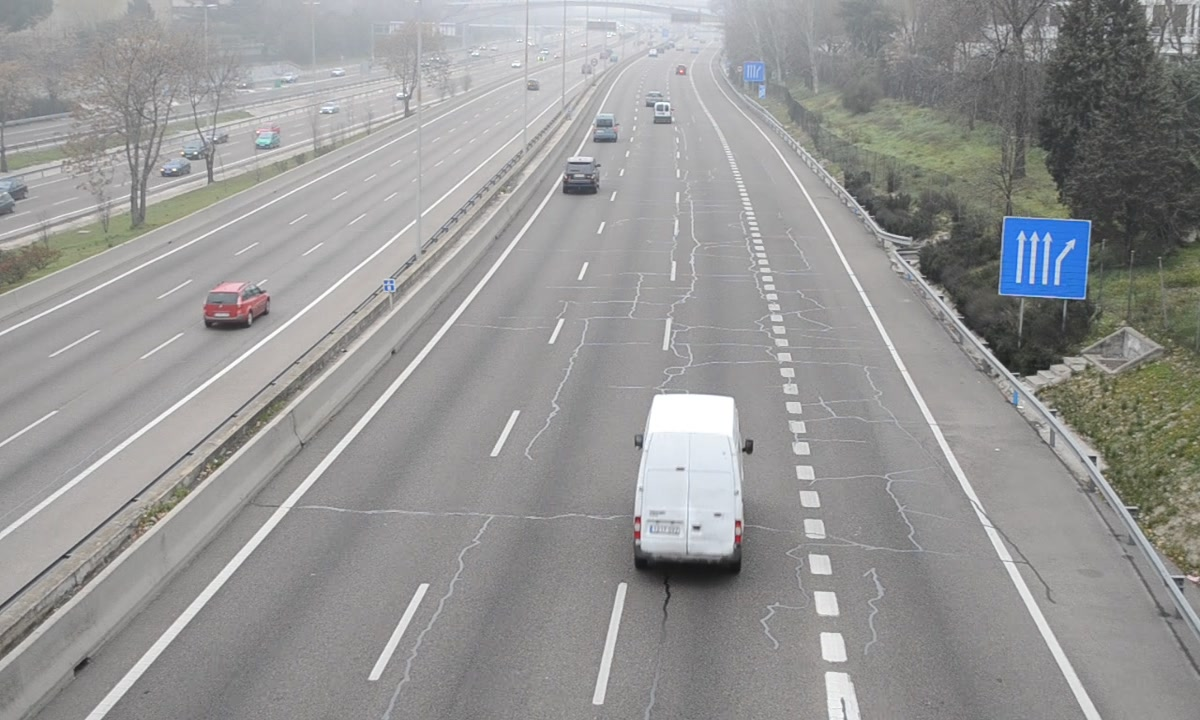car: (563, 156, 601, 192)
van: (631, 393, 744, 570), (593, 112, 619, 145)
